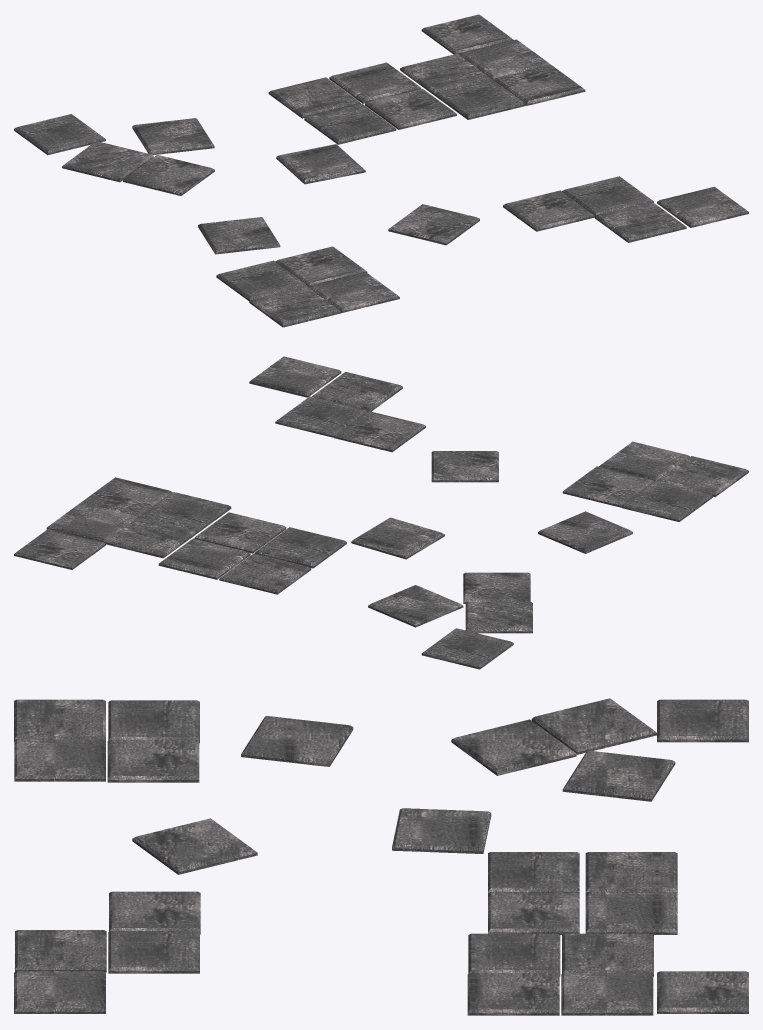
Rendered from crypt_ground_00.FBX.
3 renders of one model, top to bottom at view 1: azimuth 30°, elevation 25°; view 2: azimuth 150°, elevation 25°; view 3: azimuth 270°, elevation 25°, orthographic. The views are drawn at different scales.
Visible parts, largest first — view 1: Box04; view 2: Box04; view 3: Box04.
Boxes of the visible parts, x1,y1,x2,y2 form: Box04: [14, 14, 748, 327]; Box04: [14, 356, 748, 669]; Box04: [14, 698, 748, 1015].
Bounding box in the file's own units: 517 × 512 × 4.
